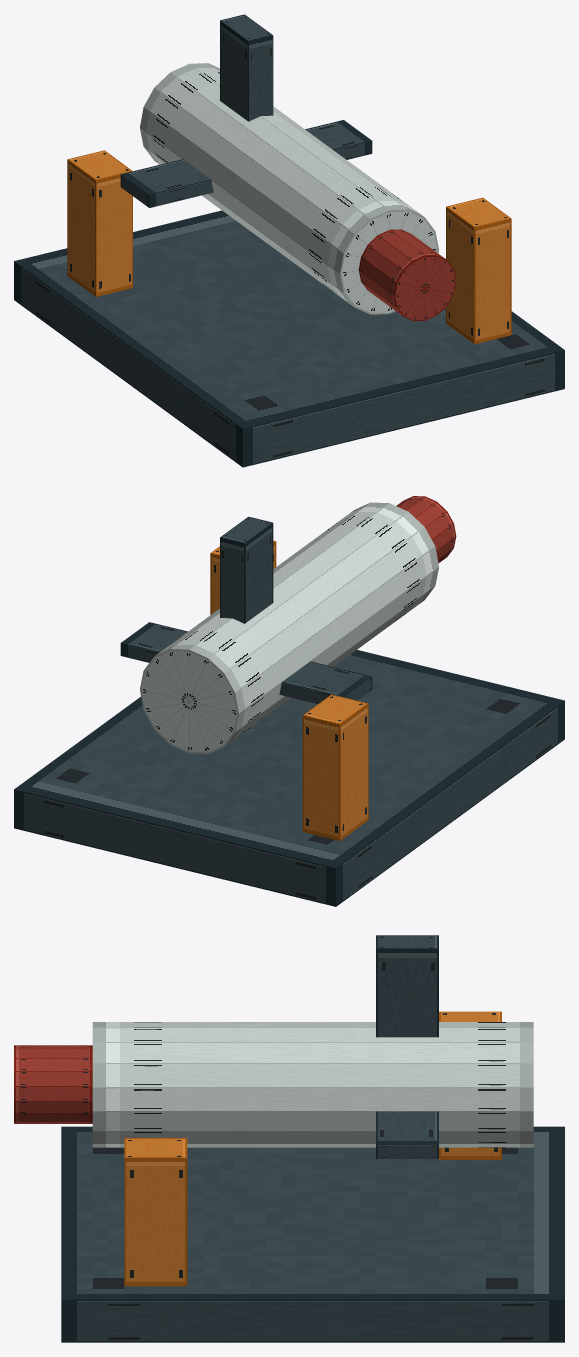
File: detail_missile_fixture.obj
3 views of the same model, one above another, from view 1: azimuth 30°, elevation 25°; view 2: azimuth 150°, elevation 25°; view 3: azimuth 270°, elevation 25° (orthographic). The views are drawn at different scales.
Bounding box in the file's own units: 1.62 × 1.38 × 2.19.
